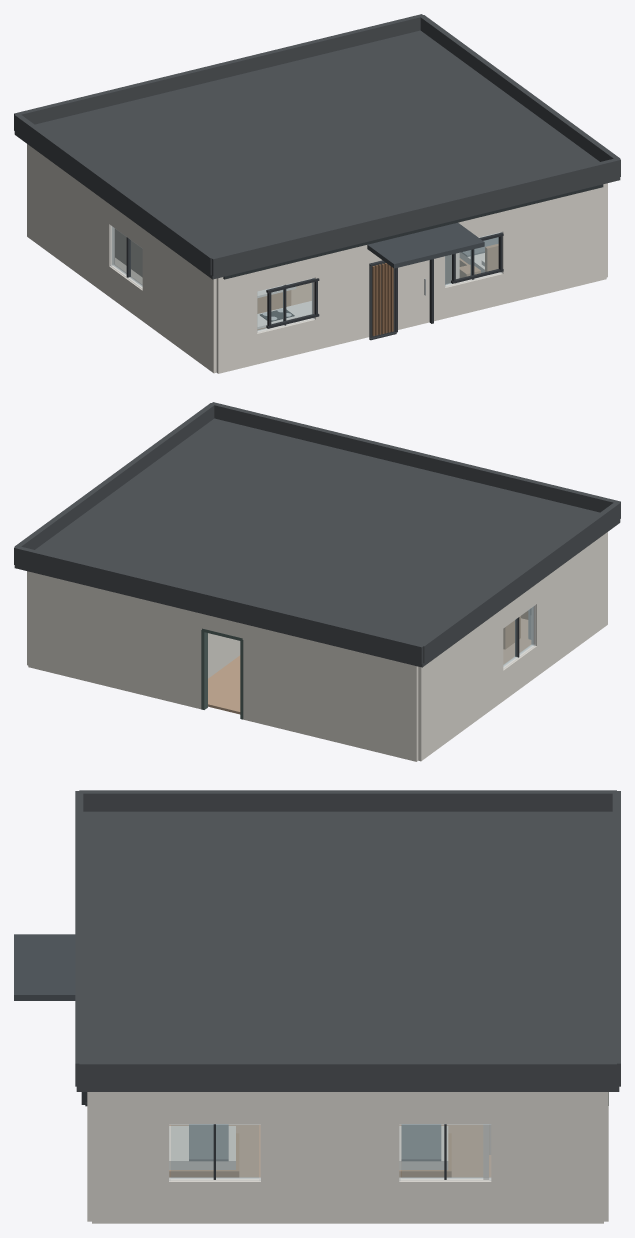
File: residential-house.glb
3 views of the same model, one above another, from view 1: azimuth 30°, elevation 25°; view 2: azimuth 150°, elevation 25°; view 3: azimuth 270°, elevation 25° (orthographic). The views are drawn at different scales.
Visible parts, largest first — view 1: ROOF_Main_Slab, ARCH_Rear_C, ROOF_Front_Parapet, ARCH_Left_B, ARCH_Rear_B, ARCH_Left_A, ROOF_Rear_Parapet, ROOF_Left_Parapet, ARCH_Rear_A, ROOF_Right_Parapet, FACADE_Entrance_Canopy, ARCH_Rear_Sill_0 (+12 smaller); view 2: ROOF_Main_Slab, ARCH_Front_Left, ARCH_Front_Right, ROOF_Rear_Parapet, ARCH_Left_B, ARCH_Left_A, ROOF_Front_Parapet, ROOF_Left_Parapet, ROOF_Right_Parapet, ARCH_Oak_Floor, ARCH_Left_Sill, ARCH_Left_Window_Glass (+4 smaller); view 3: ROOF_Main_Slab, ARCH_Right_B, ROOF_Right_Parapet, ARCH_Right_C, ROOF_Left_Parapet, ARCH_Right_A, ARCH_Right_Window_1_Glass, ARCH_Right_Window_2_Glass, ARCH_Right_Sill_1, ARCH_Right_Sill_0, FACADE_Entrance_Canopy, ARCH_Oak_Floor (+11 smaller).
Boxes of the visible parts, x1,y1,x2,y2 form: ROOF_Main_Slab: (14, 30, 620, 279); ARCH_Rear_C: (500, 183, 606, 304); ROOF_Front_Parapet: (211, 157, 620, 276); ARCH_Left_B: (27, 144, 114, 296); ARCH_Rear_B: (312, 245, 444, 349); ARCH_Left_A: (142, 229, 216, 373); ROOF_Rear_Parapet: (14, 14, 424, 130); ROOF_Left_Parapet: (14, 113, 214, 275); ARCH_Rear_A: (216, 271, 257, 373); ROOF_Right_Parapet: (419, 15, 620, 161); FACADE_Entrance_Canopy: (367, 222, 484, 268); ARCH_Rear_Sill_0: (257, 318, 315, 364); ROOF_Main_Slab: (14, 418, 620, 667); ARCH_Front_Left: (241, 623, 418, 761); ARCH_Front_Right: (28, 571, 202, 709); ROOF_Rear_Parapet: (14, 545, 424, 664); ARCH_Left_B: (418, 608, 503, 761); ARCH_Left_A: (531, 532, 607, 676); ROOF_Front_Parapet: (210, 402, 620, 518); ROOF_Left_Parapet: (420, 502, 620, 663); ROOF_Right_Parapet: (14, 403, 214, 549); ARCH_Oak_Floor: (208, 618, 531, 714); ARCH_Left_Sill: (503, 645, 536, 700); ARCH_Left_Window_Glass: (503, 606, 533, 666); ROOF_Main_Slab: (76, 811, 619, 1091); ARCH_Right_B: (261, 1092, 399, 1223); ROOF_Right_Parapet: (79, 1060, 616, 1087); ARCH_Right_C: (491, 1092, 603, 1223); ROOF_Left_Parapet: (79, 790, 616, 811); ARCH_Right_A: (92, 1092, 168, 1223); ARCH_Right_Window_1_Glass: (171, 1124, 258, 1178); ARCH_Right_Window_2_Glass: (401, 1124, 488, 1178); ARCH_Right_Sill_1: (399, 1178, 491, 1223); ARCH_Right_Sill_0: (169, 1178, 260, 1223); FACADE_Entrance_Canopy: (14, 934, 75, 1000); ARCH_Oak_Floor: (169, 1124, 491, 1177).
Size of the model in its own units: 12.66 by 3.55 by 11.85.
